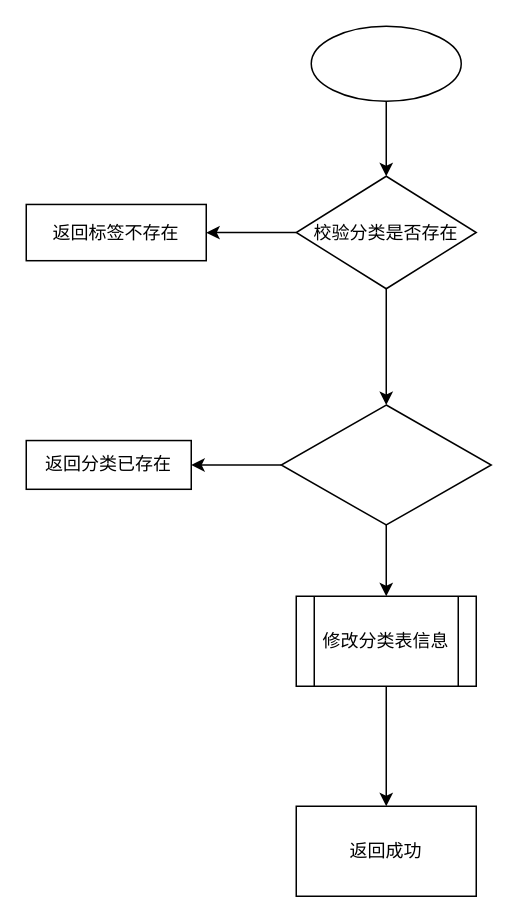
The diagram is 518 pixels wide and 923 high, and some of its shapes have lost their labels. The centre of each missing label's shape, as x and y in pixels:
"标签分类重命名" goes at (x=385, y=63).
"校验新分类名 同层是否存在" goes at (x=385, y=464).
